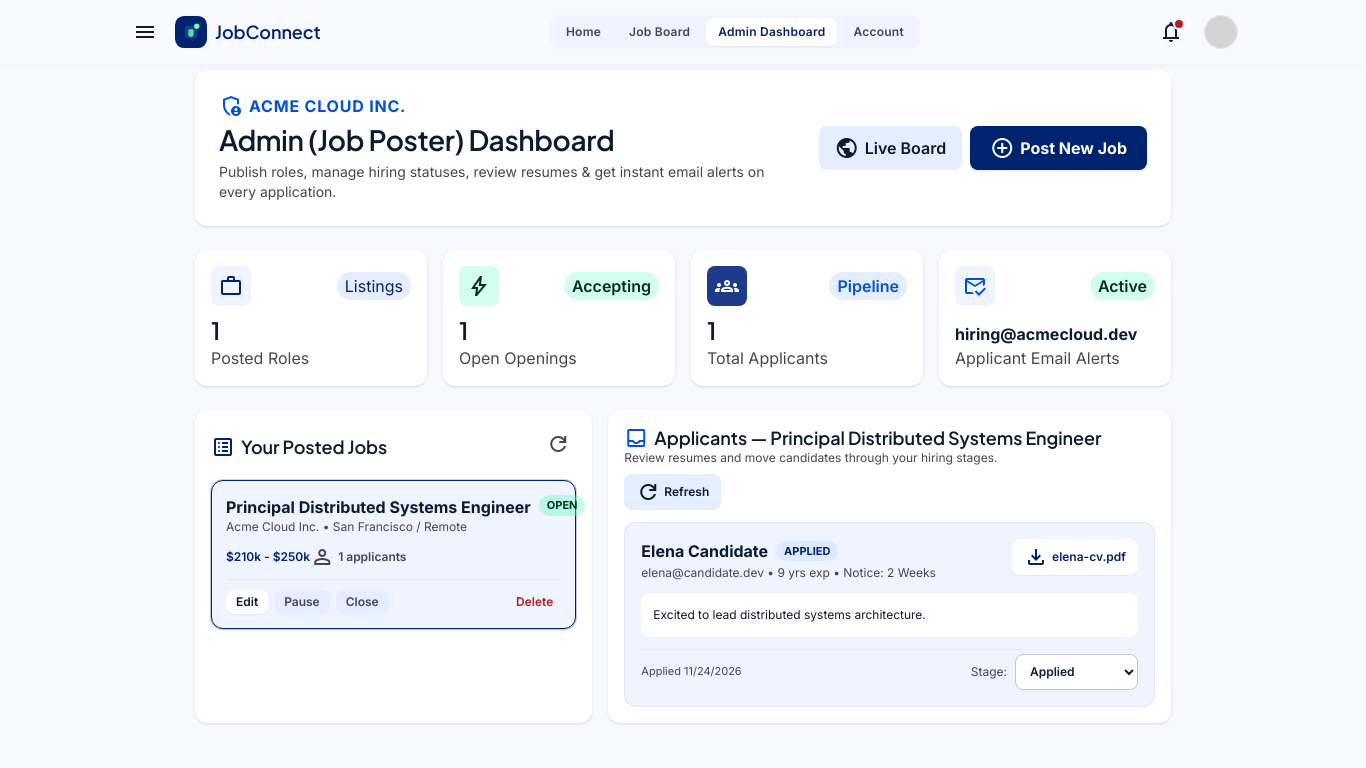
Test: EmployerDashboardPage UI workflows › loads posted jobs, shows incoming applicants, updates stage, downloads resume, and manages job status/deletion
This screenshot has width=1366, height=768.
Expected: the heading "Admin (Job Poster) Dashboard" is shown, [219,122,614,157]
Expected: the heading "Principal Distributed Systems Engineer" is shown, [226,495,531,519]
Download applicant resume
Click the button "elena-cv.pdf" at (1075, 557), box [1012,539,1138,575]
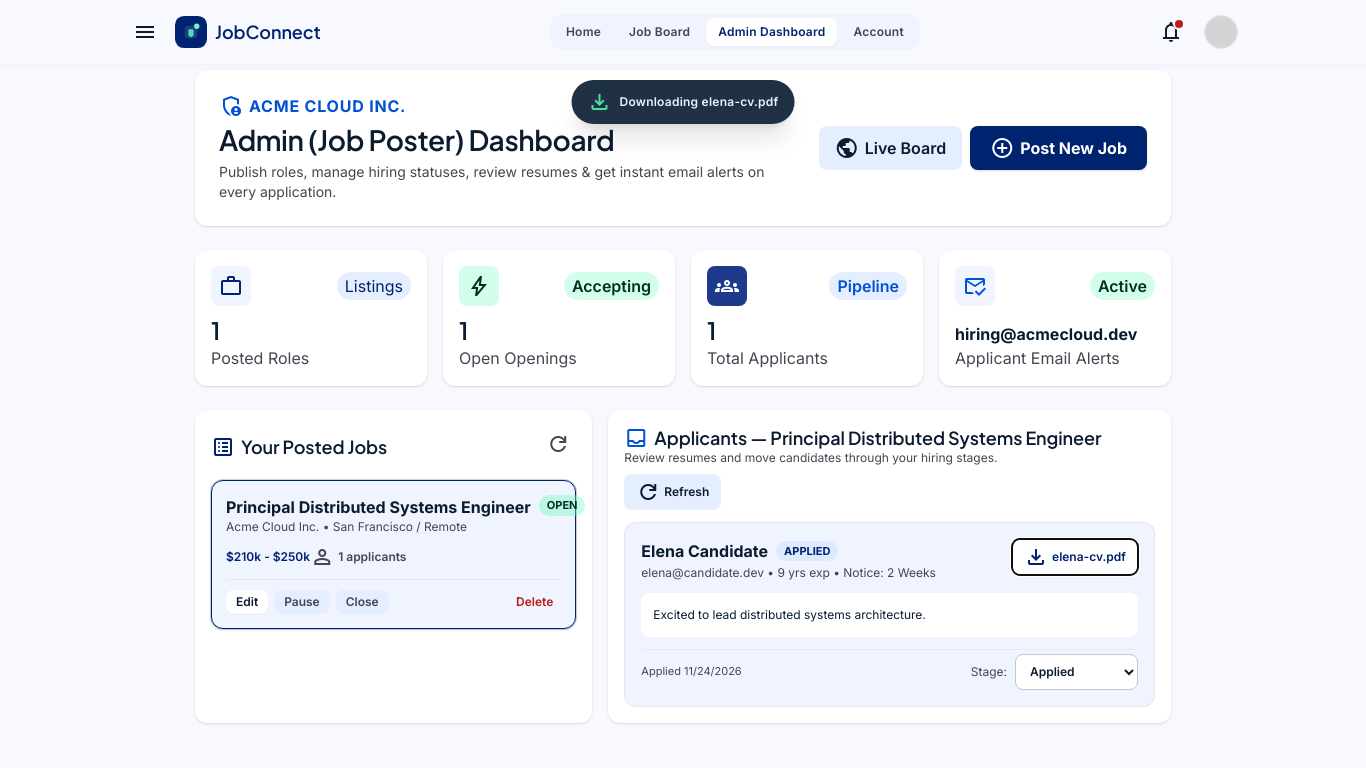
Move applicant stage to SHORTLISTED
Select "Shortlisted" in the dropdown named "Pipeline status for Elena Candidate" at (1076, 672), box [1015,654,1138,690]
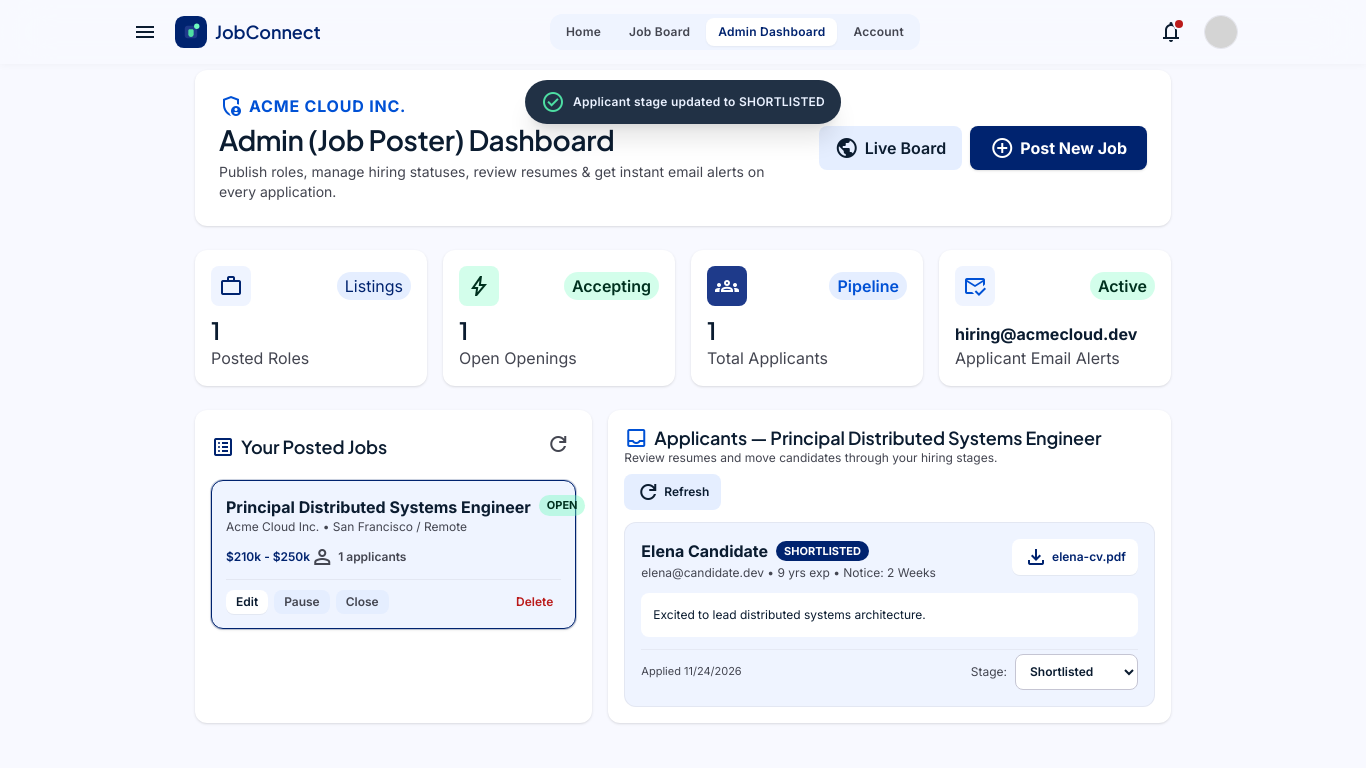
Expected: the text "SHORTLISTED" is shown, [776,541,869,561]
Close posted job
Click the button "Close" at (362, 602), box [336,590,389,614]
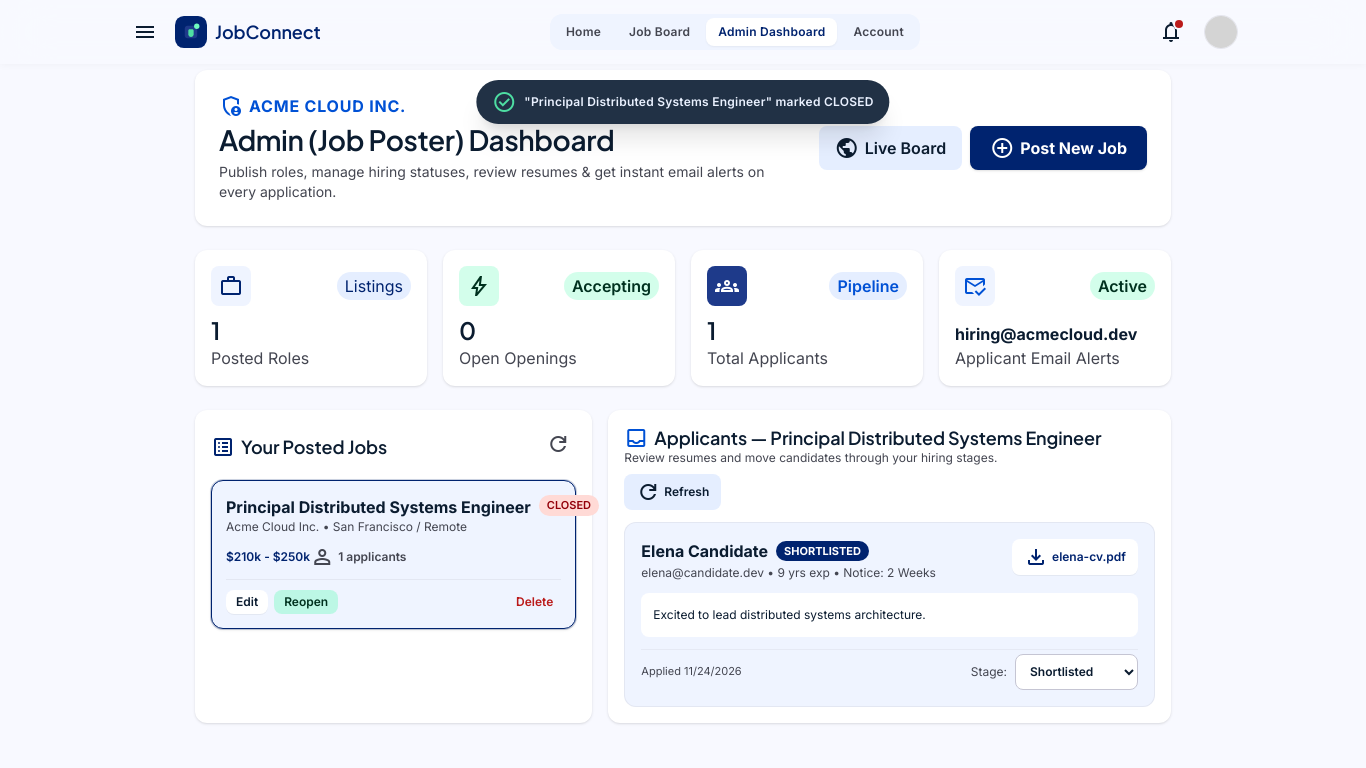
Expected: the text "CLOSED" is shown, [539,495,599,516]
Delete posted job via 2-step inline confirmation
Click the button with aria-label "Delete Principal Distributed Systems Engineer" at (535, 602), box [508,590,561,614]
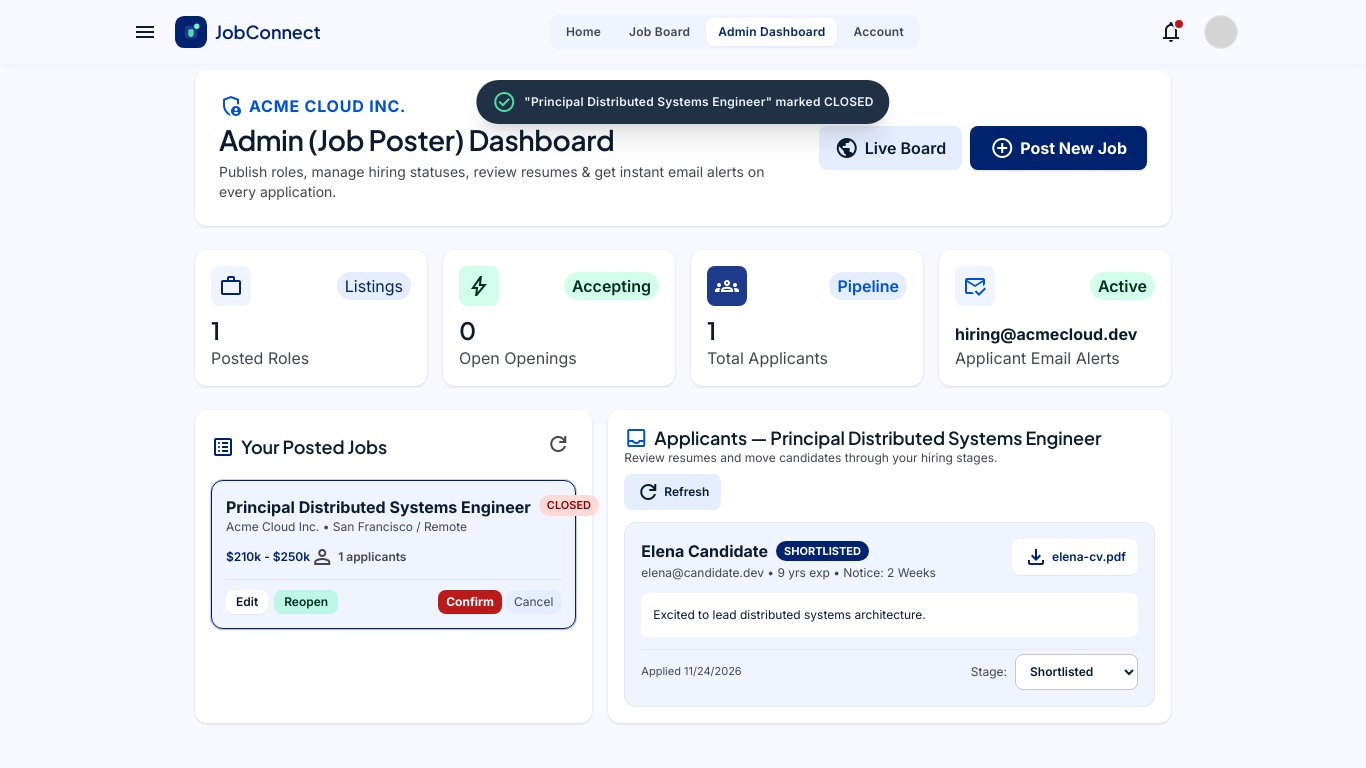
Click the button "Confirm" at (470, 602), box [438,590,502,614]
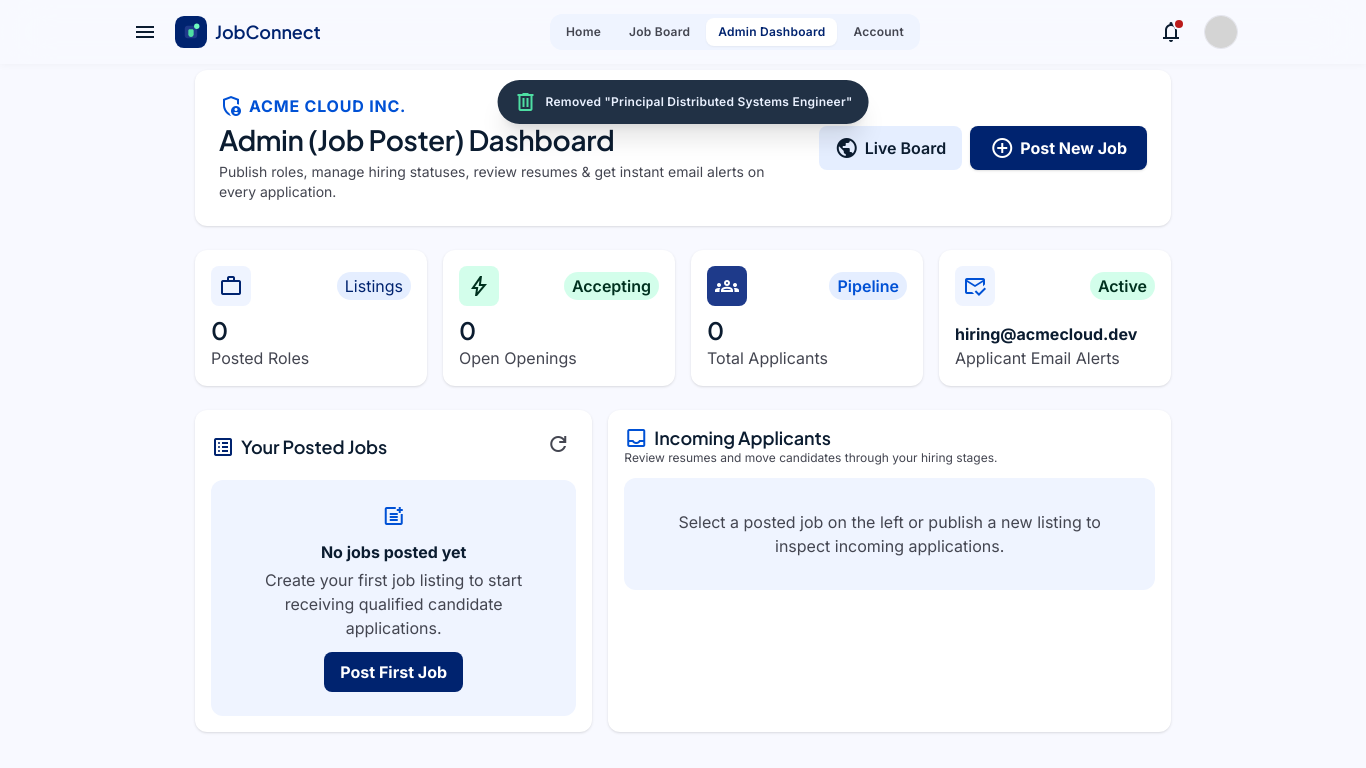
Expected: the text "No jobs posted yet" is shown, [321,542,466,562]
